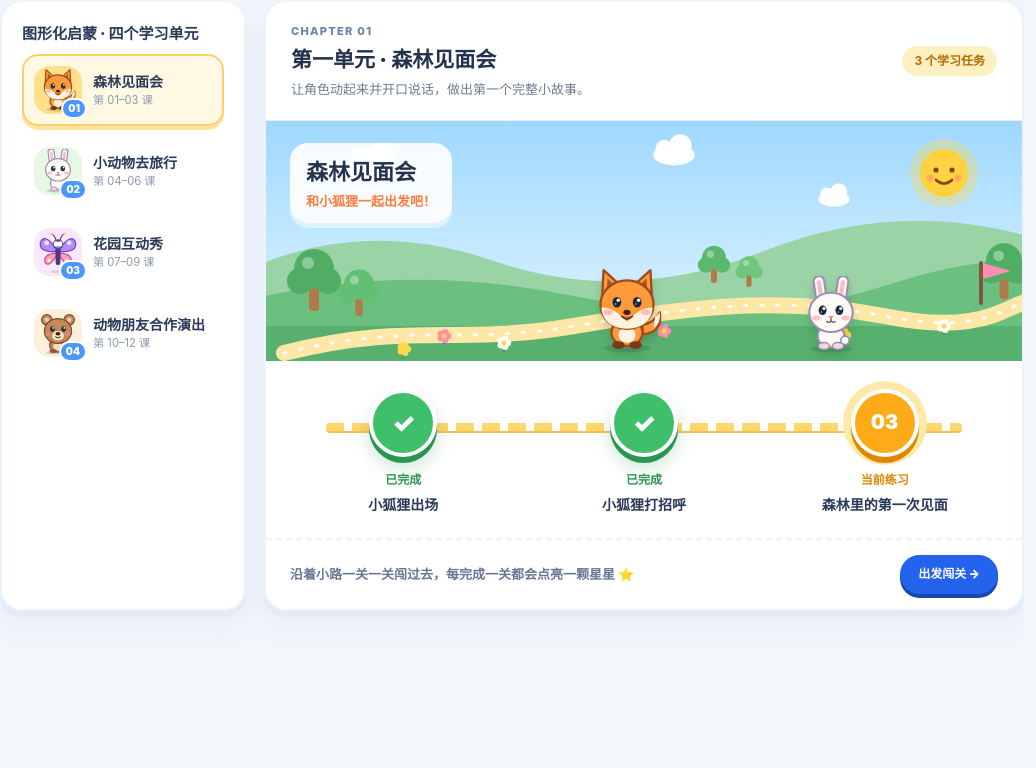
MapView › locks course-phase lessons without entitlement, and never locks trial lessons for it
The width and height of the screenshot is (1036, 768).
Click the button with test id "adventure-map-unit-unit-2-meadow-journey" at coordinates (123, 171), box [22,135,224,207]
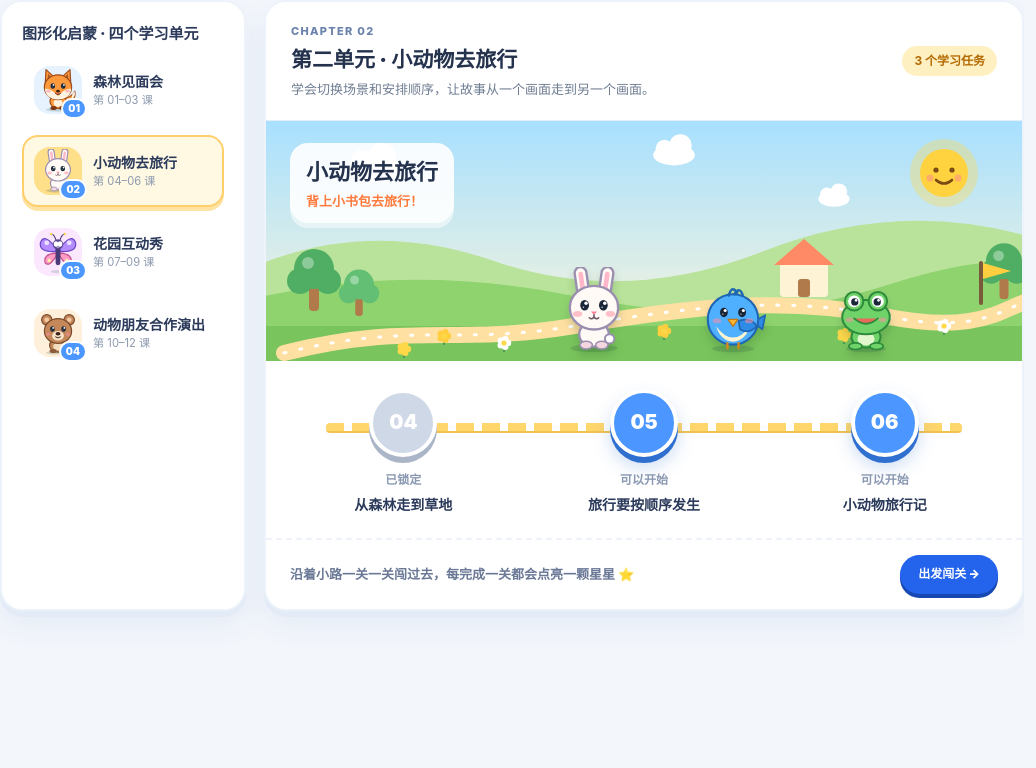
Check: the element with test id "lesson-card-lesson-04-meadow-scene" shows "已锁定", box [385,472,421,487]
Check: the link with test id "lesson-card-lesson-05-meadow-order" shows "可以开始", box [588,389,700,513]
